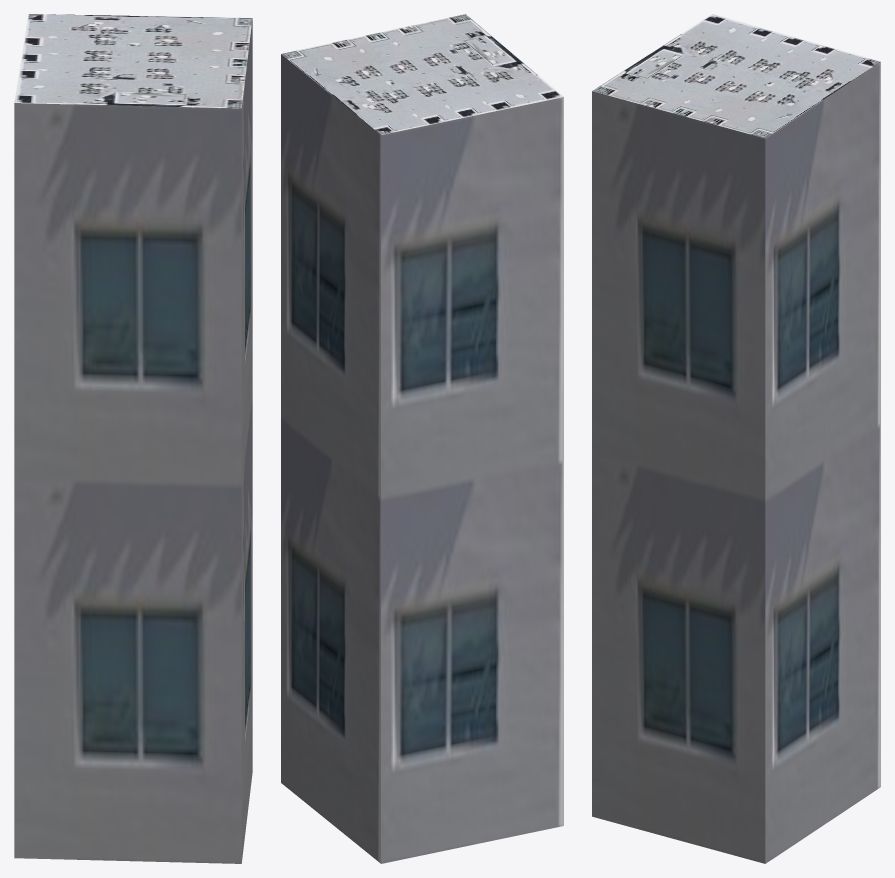
Rendered from ResTex__118.fbx.
3 views of the same model, side by side, from view 1: azimuth 30°, elevation 25°; view 2: azimuth 150°, elevation 25°; view 3: azimuth 270°, elevation 25° (orthographic). The views are drawn at different scales.
Visible parts, largest first — view 1: CityEngineMaterial_10_m, CityEngineMaterial_8_m; view 2: CityEngineMaterial_10_m, CityEngineMaterial_8_m; view 3: CityEngineMaterial_10_m, CityEngineMaterial_8_m.
Part boxes in pixels (x1,y1,x2,y2): CityEngineMaterial_10_m: (14, 18, 252, 863); CityEngineMaterial_8_m: (14, 14, 252, 108); CityEngineMaterial_10_m: (281, 54, 563, 863); CityEngineMaterial_8_m: (281, 14, 563, 134); CityEngineMaterial_10_m: (592, 62, 880, 863); CityEngineMaterial_8_m: (592, 14, 880, 138).
Size of the model in its own units: 2.21 by 6 by 2.17.
Materials: 2 (2 with a texture image).
